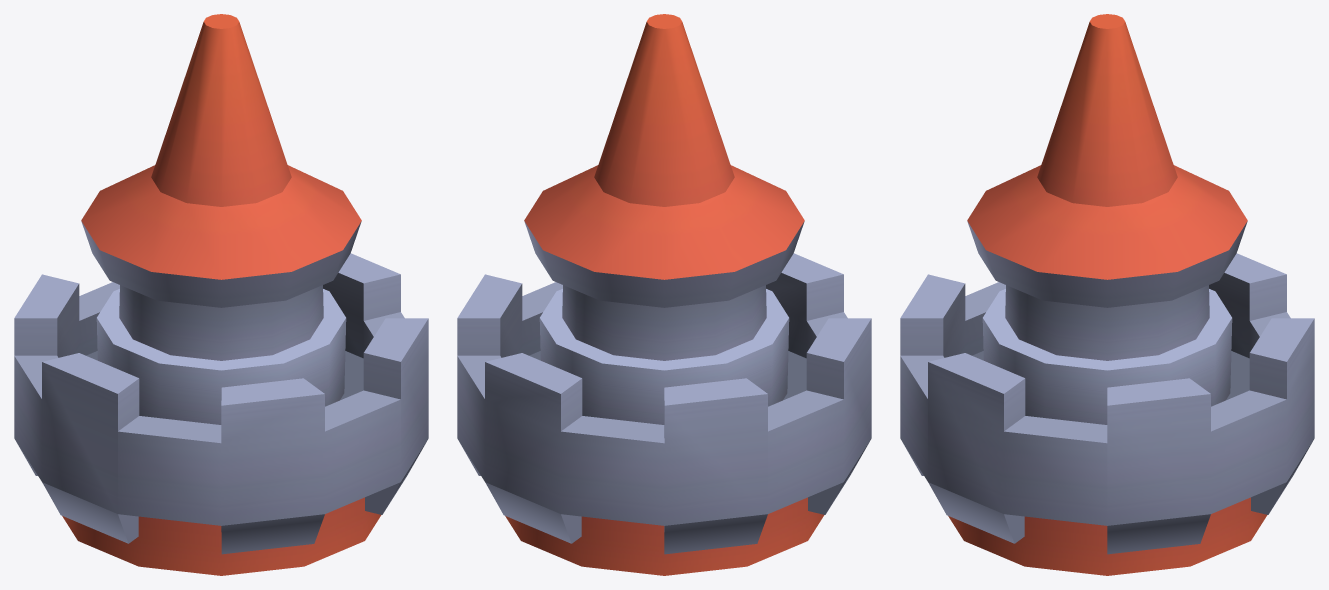
File: kenney-tower-defense-tower-round-roof-b.glb
The picture shows the model from 3 angles, left to right: view 1: azimuth 30°, elevation 25°; view 2: azimuth 150°, elevation 25°; view 3: azimuth 270°, elevation 25°; orthographic projection.
Parts seen in each view (by area): view 1: tower-round-roof-b; view 2: tower-round-roof-b; view 3: tower-round-roof-b.
Part boxes in pixels (x1=…): tower-round-roof-b: x1=14, y1=14, x2=428, y2=575; tower-round-roof-b: x1=457, y1=14, x2=871, y2=575; tower-round-roof-b: x1=900, y1=14, x2=1314, y2=575.
Bounding box in the file's own units: 1 × 1.29 × 1.
1 material, 1 textured.
